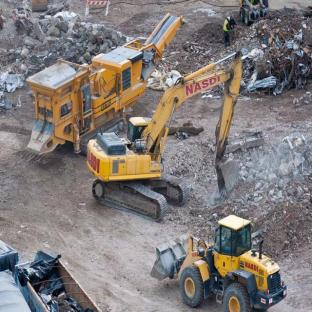ExcavationMachinery: (89, 51, 255, 223)
